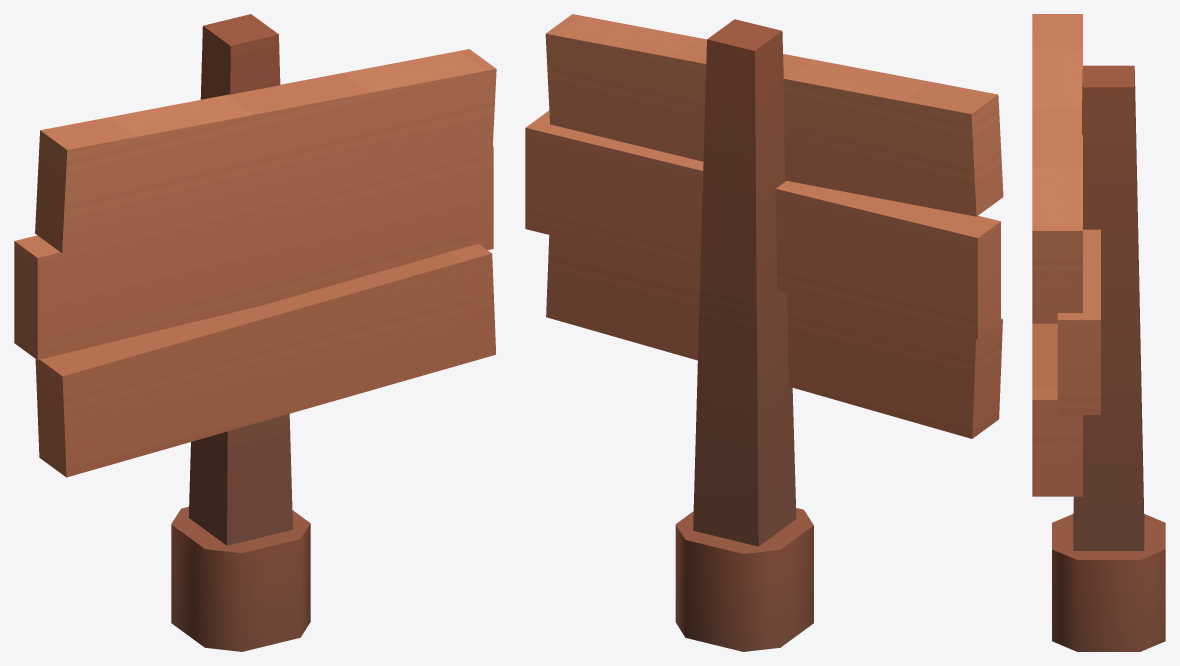
The model's file is sign.glb.
3 renders of one model, left to right at view 1: azimuth 30°, elevation 25°; view 2: azimuth 150°, elevation 25°; view 3: azimuth 270°, elevation 25°, orthographic. The views are drawn at different scales.
Parts seen in each view (by area): view 1: sign; view 2: sign; view 3: sign.
Boxes of the visible parts, x1=… form: sign: x1=14, y1=14, x2=496, y2=651; sign: x1=525, y1=14, x2=1003, y2=651; sign: x1=1032, y1=14, x2=1165, y2=651.
Bounding box in the file's own units: 0.4835 × 0.6 × 0.1314.
Materials: 1 (1 with a texture image).
